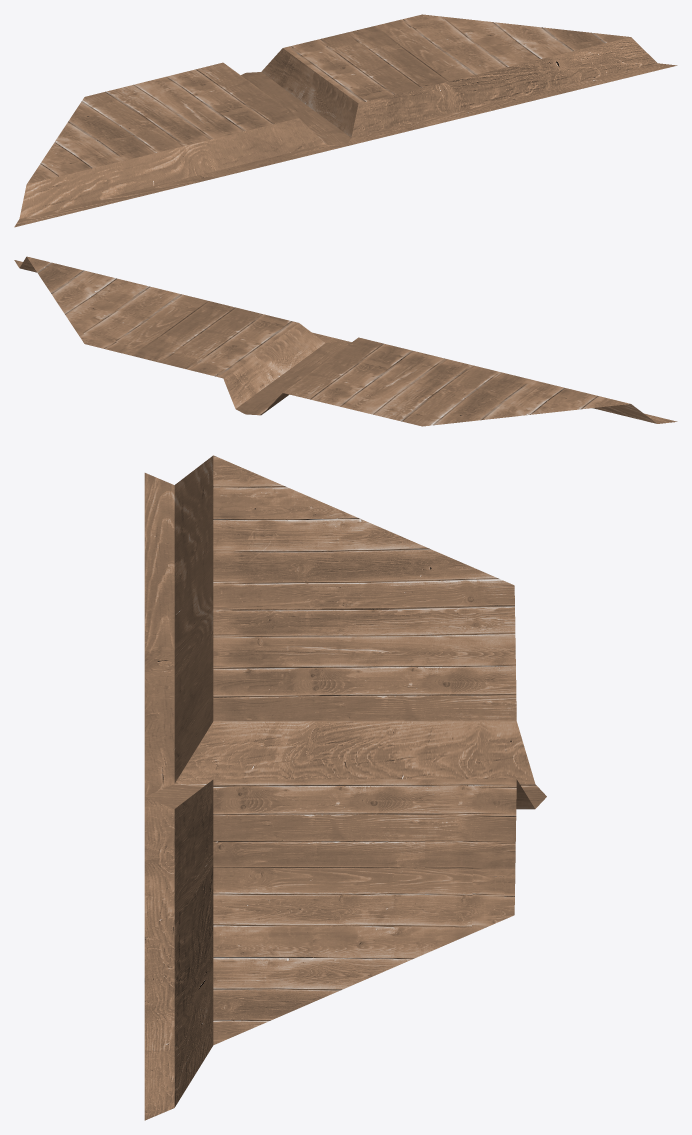
Rendered from CeilingBowWindowB.fbx.
3 views of the same model, one above another, from view 1: azimuth 30°, elevation 25°; view 2: azimuth 150°, elevation 25°; view 3: azimuth 270°, elevation 25° (orthographic). The views are drawn at different scales.
Visible parts, largest first — view 1: CeilingBowWindowB; view 2: CeilingBowWindowB; view 3: CeilingBowWindowB.
Boxes of the visible parts, x1,y1,x2,y2 form: CeilingBowWindowB: [14, 14, 677, 227]; CeilingBowWindowB: [14, 256, 677, 426]; CeilingBowWindowB: [144, 455, 546, 1120].
Bounding box in the file's own units: 373 × 12.44 × 97.95.
